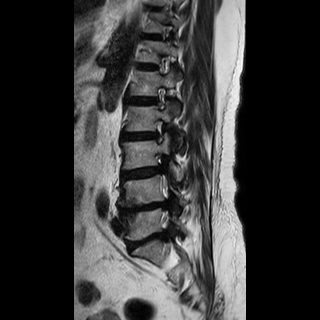LFS0: (149, 81, 174, 115)
LFS1: (147, 116, 173, 146)
